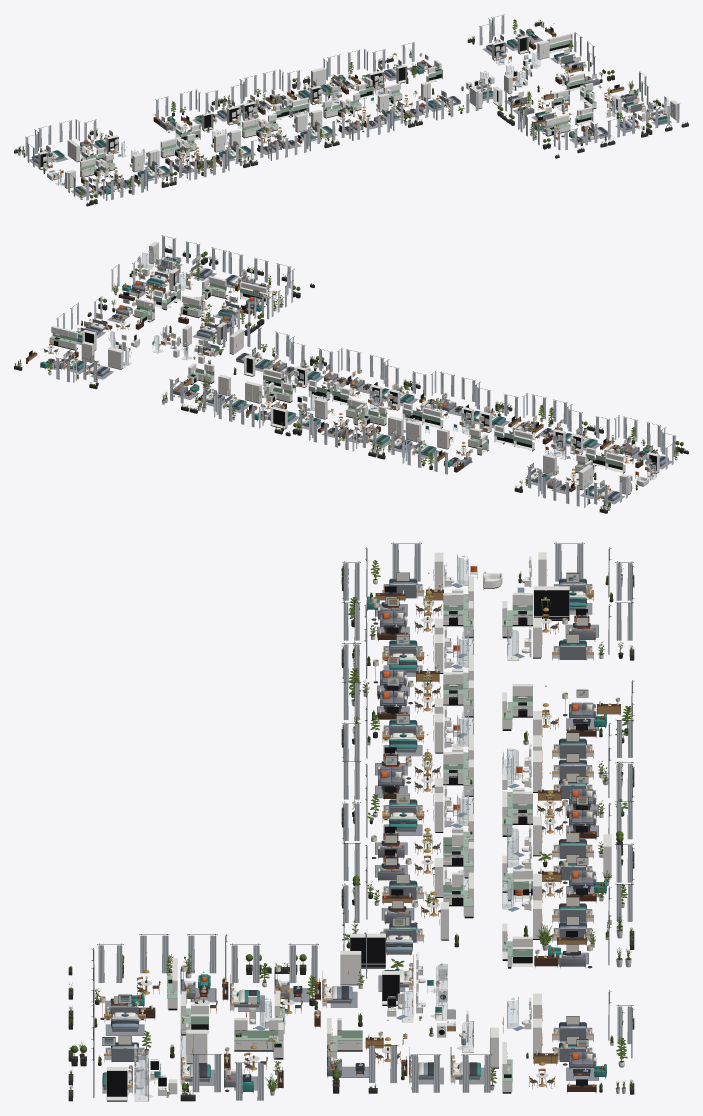
3 views of the same model, one above another, from view 1: azimuth 30°, elevation 25°; view 2: azimuth 150°, elevation 25°; view 3: azimuth 270°, elevation 25° (orthographic). The views are drawn at different scales.
Parts seen in each view (by area): view 1: in_L03_u30_furn_kitchen_run1__int_white_gloss, in_L03_u27_furn_kitchen_run1__int_white_gloss; view 2: in_L03_u27_furn_kitchen_run1__int_white_gloss; view 3: in_L03_u41_furn_wardrobe1__int_white_gloss, in_L03_u29_furn_kitchen_run1__int_white_gloss, in_L03_u33_furn_wardrobe2__int_white_gloss.
Part boxes in pixels (x1,y1,x2,y2): in_L03_u30_furn_kitchen_run1__int_white_gloss: (545, 114, 570, 136); in_L03_u27_furn_kitchen_run1__int_white_gloss: (548, 33, 572, 53); in_L03_u27_furn_kitchen_run1__int_white_gloss: (49, 326, 77, 350); in_L03_u41_furn_wardrobe1__int_white_gloss: (533, 586, 569, 620); in_L03_u29_furn_kitchen_run1__int_white_gloss: (234, 1018, 283, 1051); in_L03_u33_furn_wardrobe2__int_white_gloss: (350, 933, 385, 968).
Size of the model in its own units: 82.61 by 3 by 37.91.
